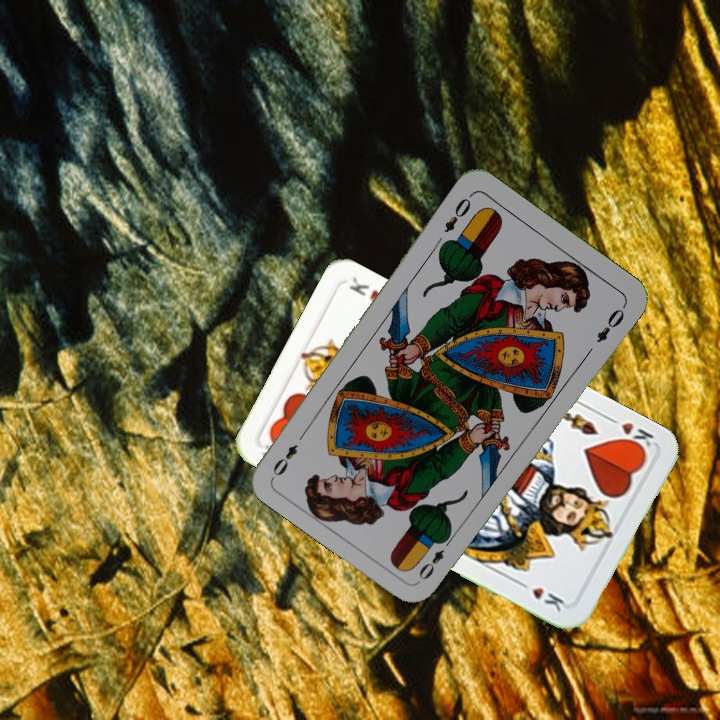EO: (414, 532, 456, 583), (440, 189, 475, 236)
HK: (603, 412, 656, 456)
